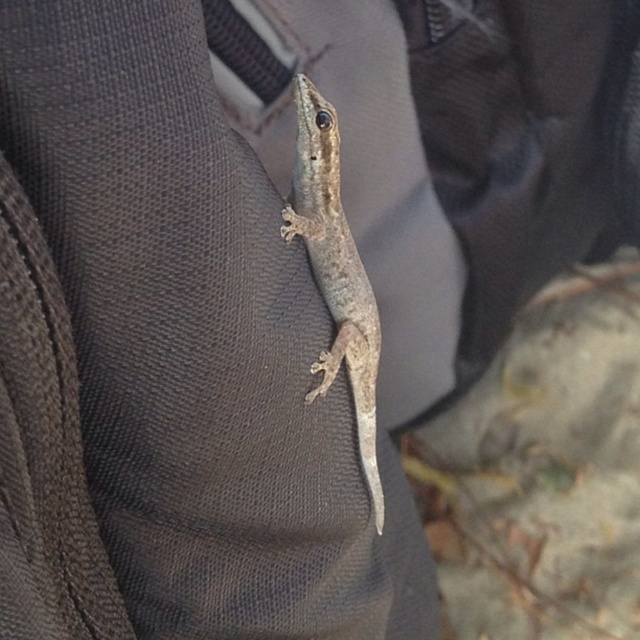Lizard: (259, 67, 399, 511)
